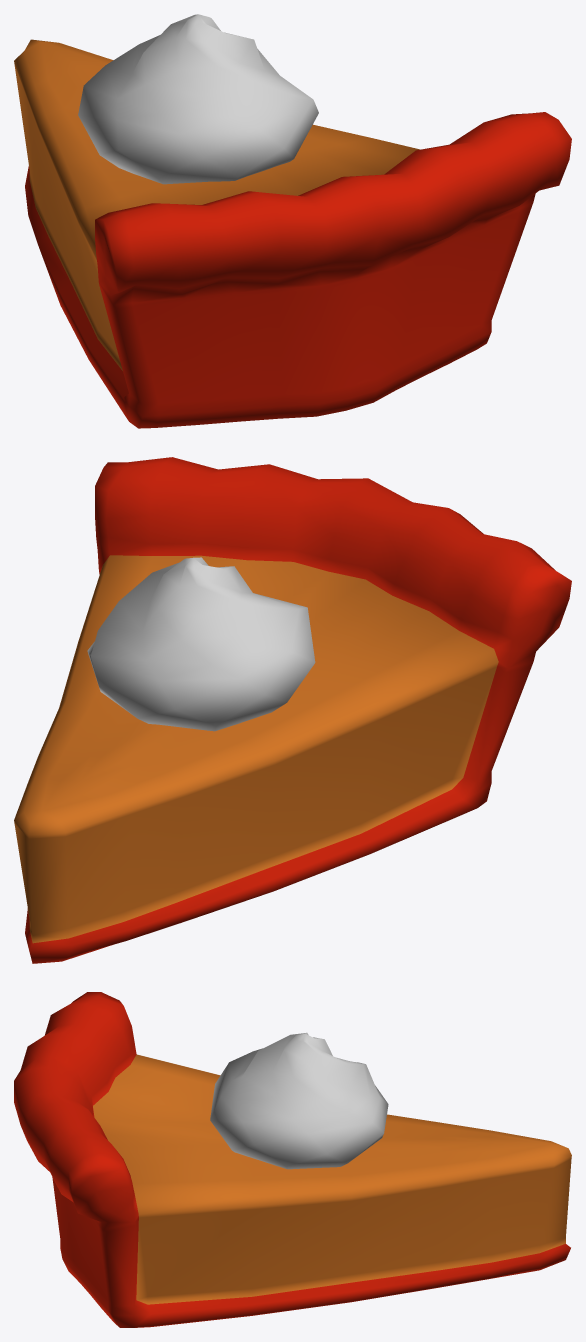
3 views of the same model, one above another, from view 1: azimuth 30°, elevation 25°; view 2: azimuth 150°, elevation 25°; view 3: azimuth 270°, elevation 25° (orthographic). The views are drawn at different scales.
Visible parts, largest first — view 1: Slice (×2), Cream; view 2: Slice (×2), Cream; view 3: Slice (×2), Cream.
Boxes of the visible parts, bbox=[...] form: Slice (×2): bbox=[14, 39, 571, 428]; Cream: bbox=[78, 14, 318, 184]; Slice (×2): bbox=[14, 457, 571, 963]; Cream: bbox=[87, 557, 315, 731]; Slice (×2): bbox=[14, 992, 571, 1327]; Cream: bbox=[210, 1032, 388, 1169].
Size of the model in its own units: 620 by 376 by 818.
